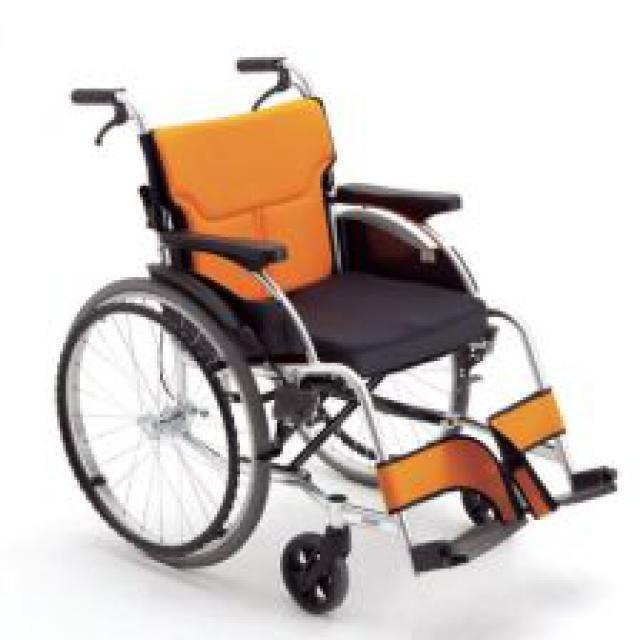wheelchairs: (59, 55, 624, 613)
